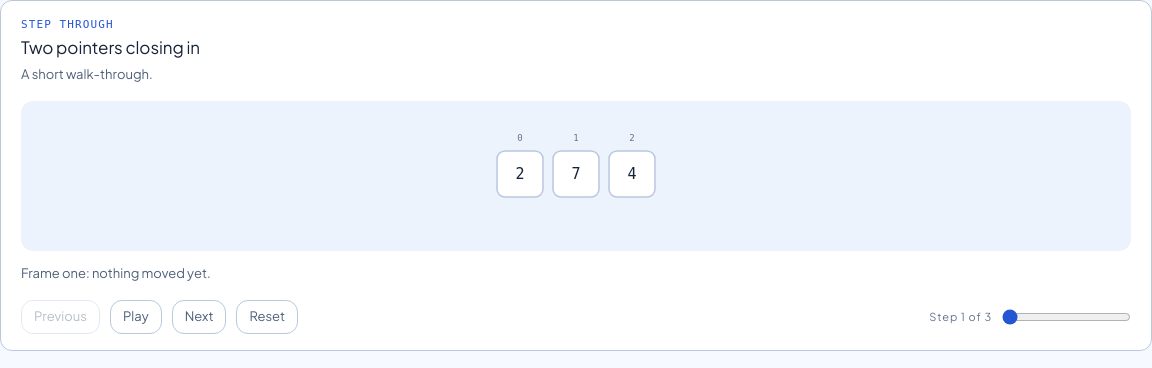
VizBlock › moving to the next frame changes the announced note
The width and height of the screenshot is (1152, 368).
Click the button "Next" at (199, 317), box [172, 300, 226, 334]
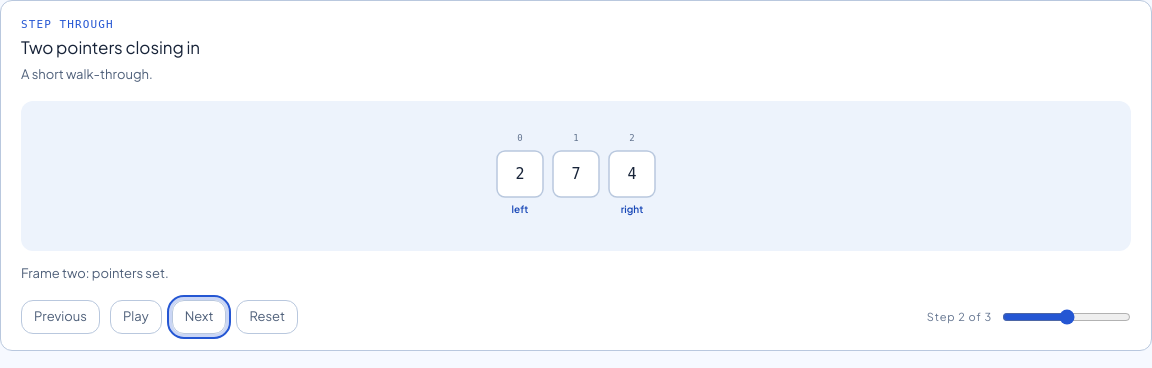
Check: the message reads "Frame two: pointers set.", box [21, 265, 169, 281]
